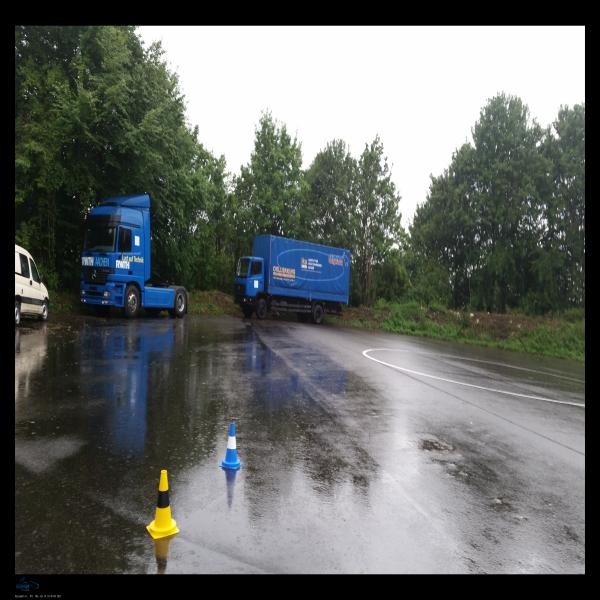blue_cone: (219, 423, 243, 469)
yellow_cone: (146, 470, 180, 539)
